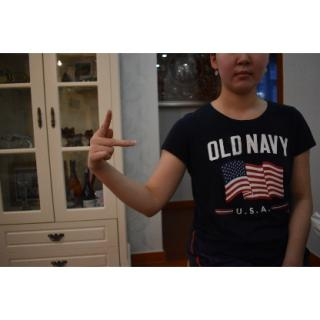DHAA: (82, 106, 140, 174)
